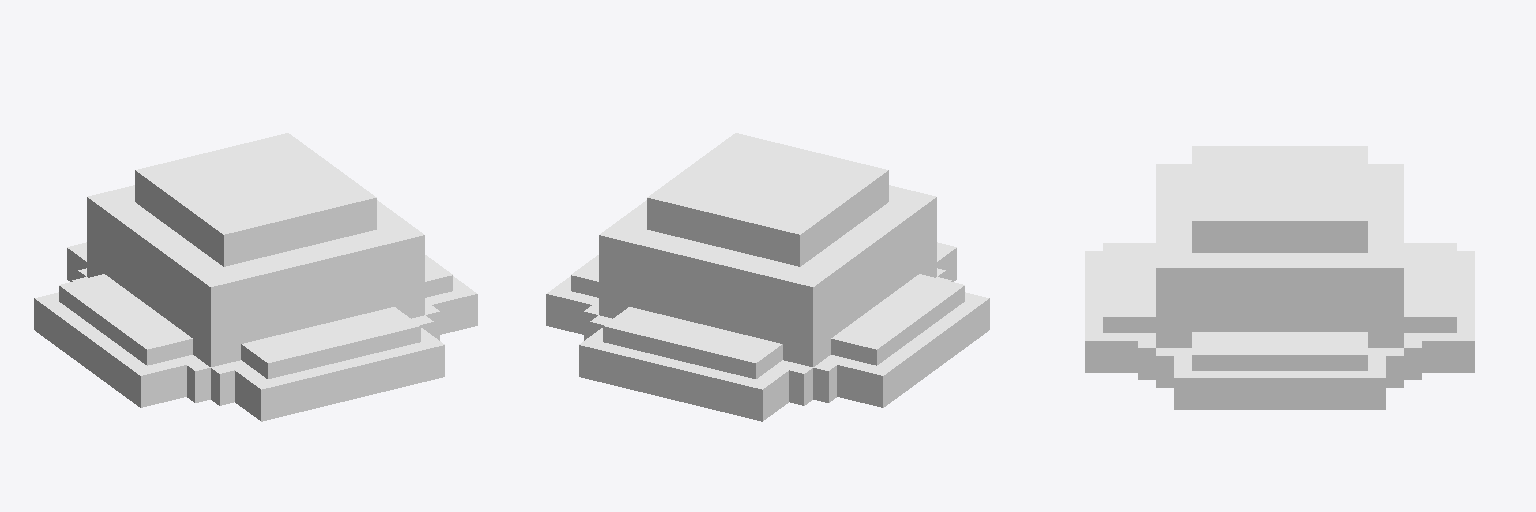
File: fast-2.obj
3 views of the same model, side by side, from view 1: azimuth 30°, elevation 25°; view 2: azimuth 150°, elevation 25°; view 3: azimuth 270°, elevation 25° (orthographic).
Visible parts, largest first — view 1: object 1; view 2: object 1; view 3: object 1.
Part boxes in pixels (bbox=[...]): object 1: bbox=[34, 133, 477, 421]; object 1: bbox=[546, 133, 989, 421]; object 1: bbox=[1085, 146, 1474, 409].
Bounding box in the file's own units: 2.2 × 0.9 × 2.2.